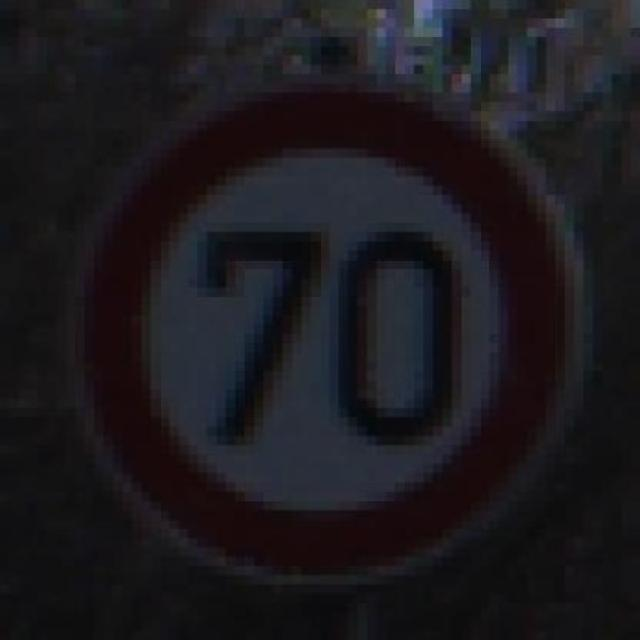forb_speed_over_70: (87, 89, 567, 573)
